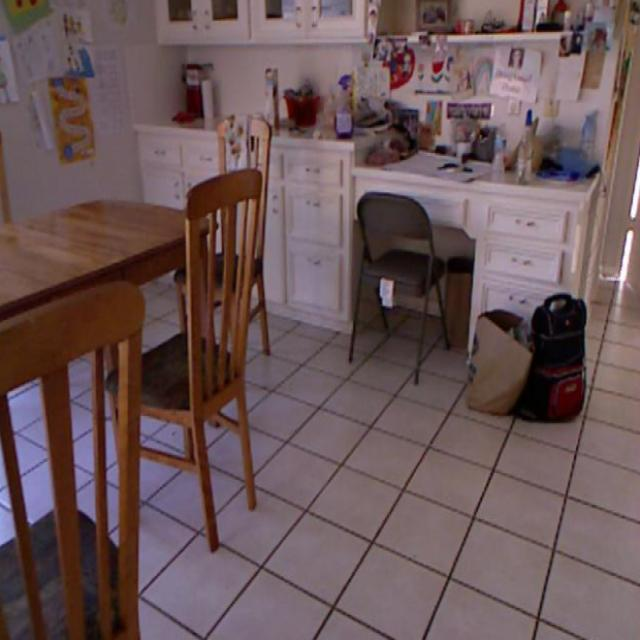bag: (477, 302, 539, 421), (536, 357, 598, 438), (534, 295, 602, 368)
chair: (0, 323, 153, 609), (162, 199, 296, 478), (176, 122, 298, 326), (362, 185, 448, 358)
desk: (366, 135, 596, 377)
table: (0, 178, 220, 317)
